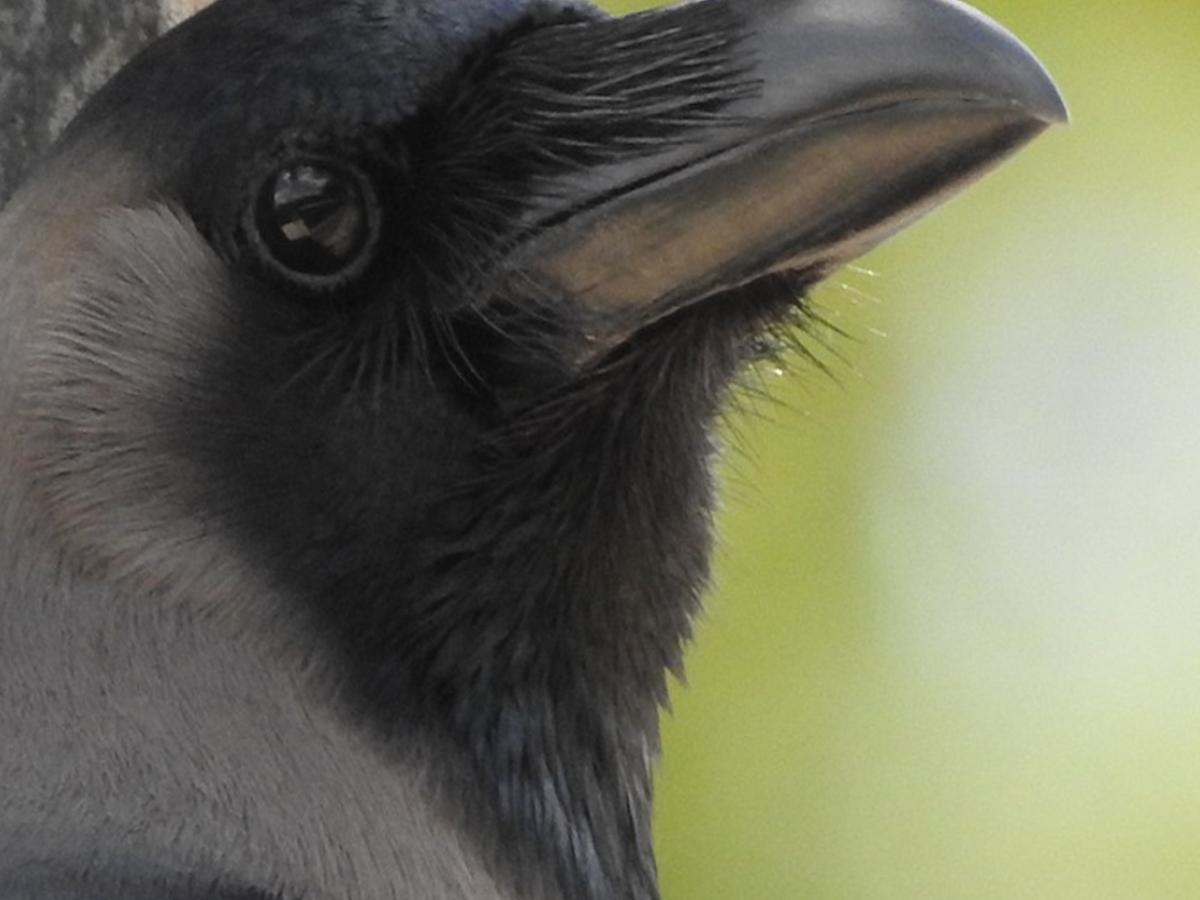crow: (1, 1, 1076, 900)
